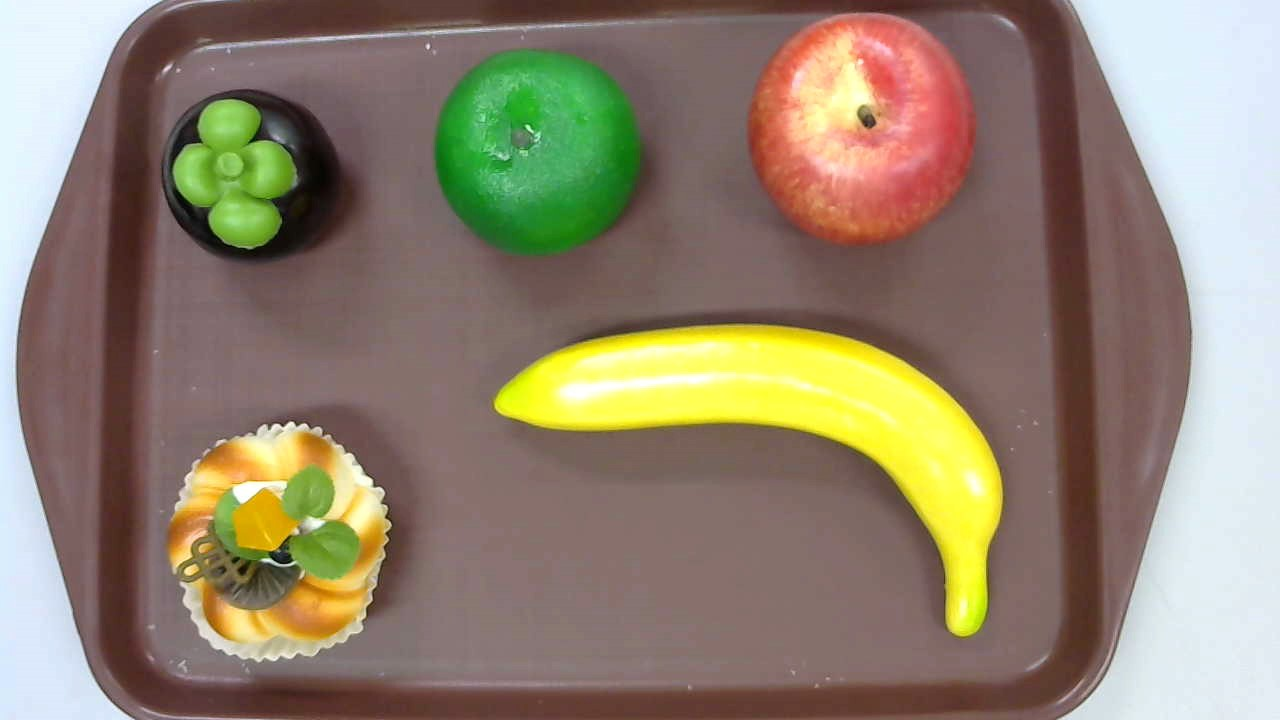banana: (493, 323, 1003, 638)
fruit tower: (166, 421, 391, 663)
green orange: (433, 50, 640, 258)
mangosteen: (162, 89, 340, 266)
red apple: (747, 12, 978, 247)
